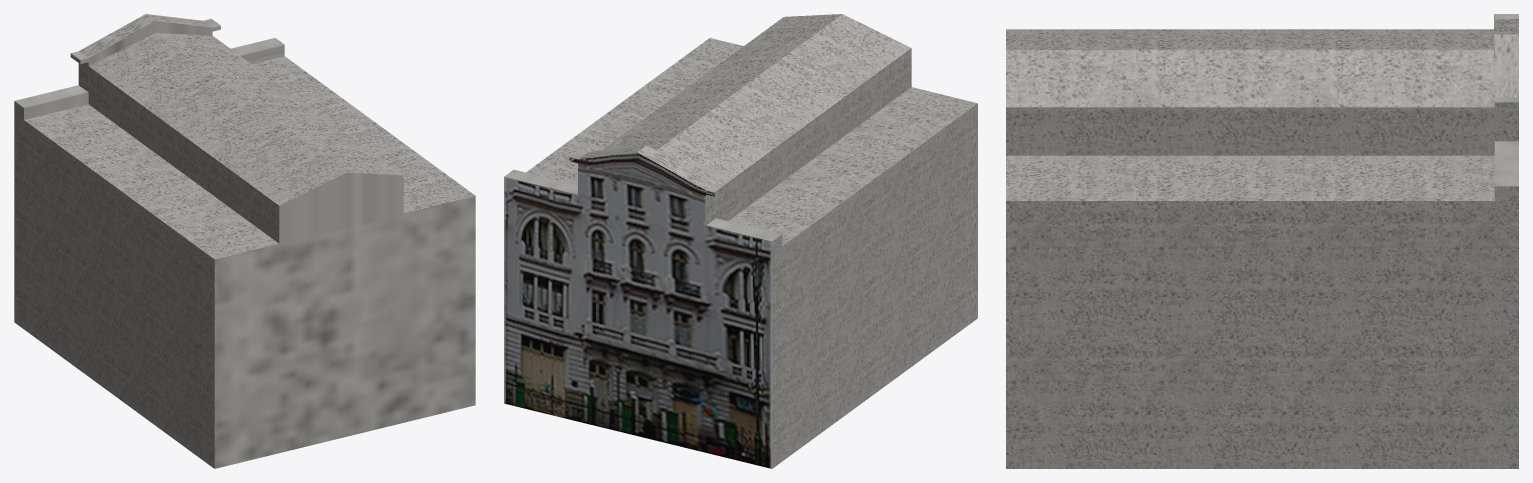
File: Edificioladogaleria.fbx
The picture shows the model from 3 angles, left to right: view 1: azimuth 30°, elevation 25°; view 2: azimuth 150°, elevation 25°; view 3: azimuth 270°, elevation 25°; orthographic projection. The views are drawn at different scales.
Visible parts, largest first — view 1: Cube; view 2: Cube; view 3: Cube.
Boxes of the visible parts, left/top/right/bottom form: Cube: left=14, top=14, right=475, bottom=468; Cube: left=504, top=14, right=977, bottom=468; Cube: left=1006, top=14, right=1518, bottom=468.
Size of the model in its own units: 6287 by 6358 by 8357.
Materials: 2 (2 with a texture image).
